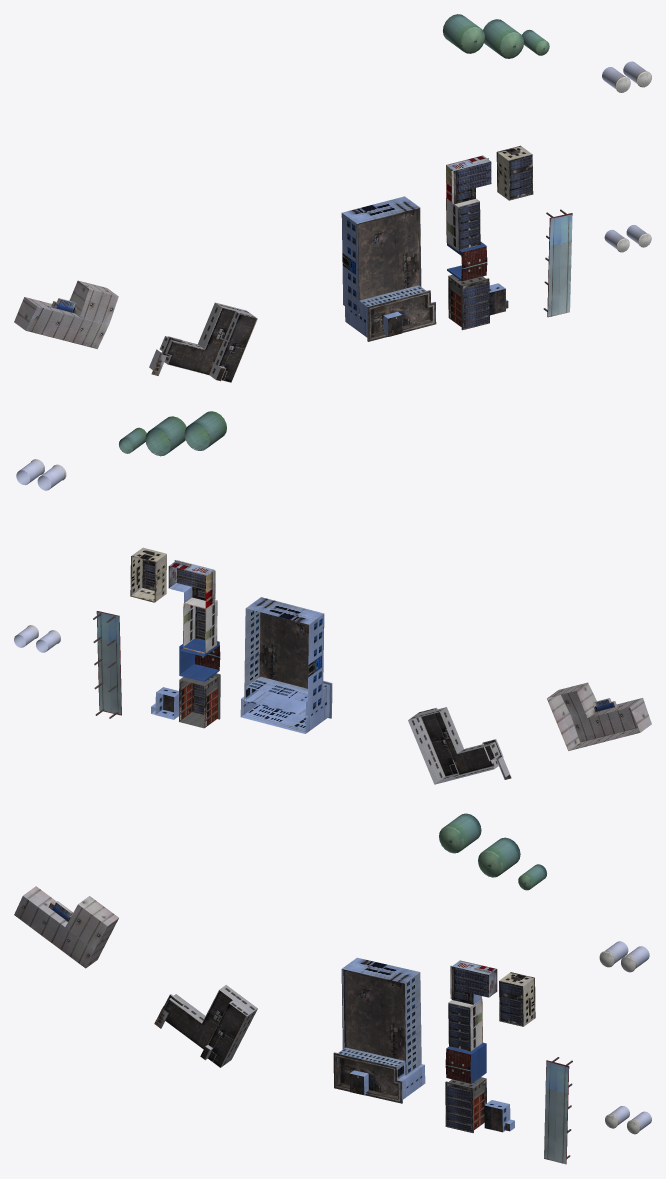
3 views of the same model, one above another, from view 1: azimuth 30°, elevation 25°; view 2: azimuth 150°, elevation 25°; view 3: azimuth 330°, elevation 25° (orthographic).
Parts seen in each view (by area): view 1: p10_03; view 2: p10_03; view 3: p10_03.
Boxes of the visible parts, x1,y1,x2,y2 form: p10_03: [14, 14, 651, 382]; p10_03: [14, 411, 651, 784]; p10_03: [14, 813, 651, 1164].
Bounding box in the file's own units: 36052 × 17478 × 2683.
Materials: 3 (3 with a texture image).
